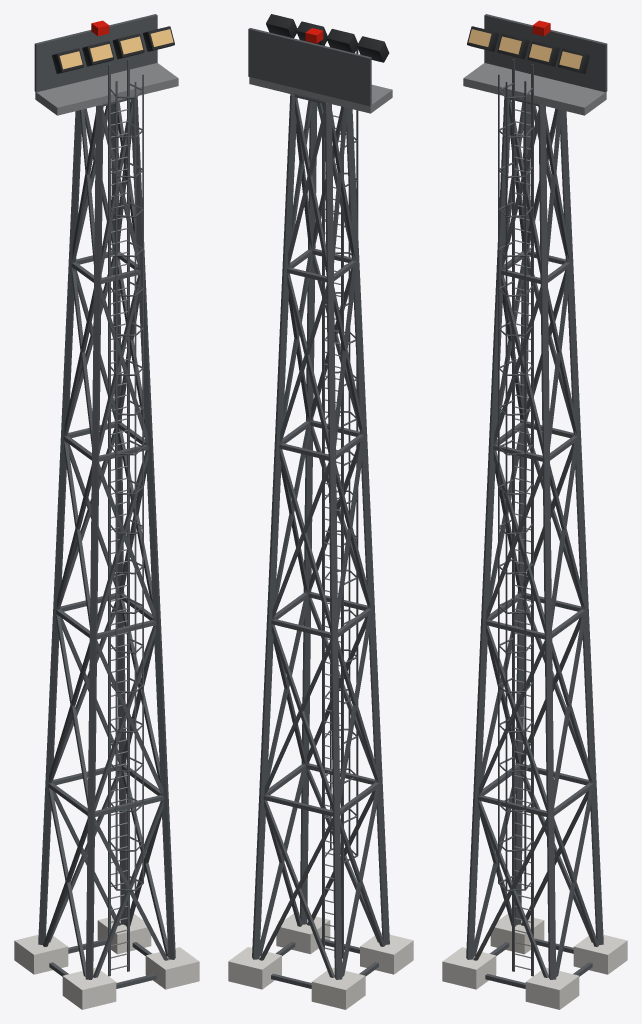
The model's file is flood-mast.glb.
The picture shows the model from 3 angles, left to right: view 1: azimuth 30°, elevation 25°; view 2: azimuth 150°, elevation 25°; view 3: azimuth 330°, elevation 25°; orthographic projection.
Visible parts, largest first — view 1: Piece_lod0; view 2: Piece_lod0; view 3: Piece_lod0.
Boxes of the visible parts, bbox=[...] form: Piece_lod0: bbox=[14, 14, 199, 1009]; Piece_lod0: bbox=[228, 14, 413, 1009]; Piece_lod0: bbox=[442, 14, 627, 1009].
Size of what is drawn, in the model's own units: 3.2 by 23.76 by 3.1.
